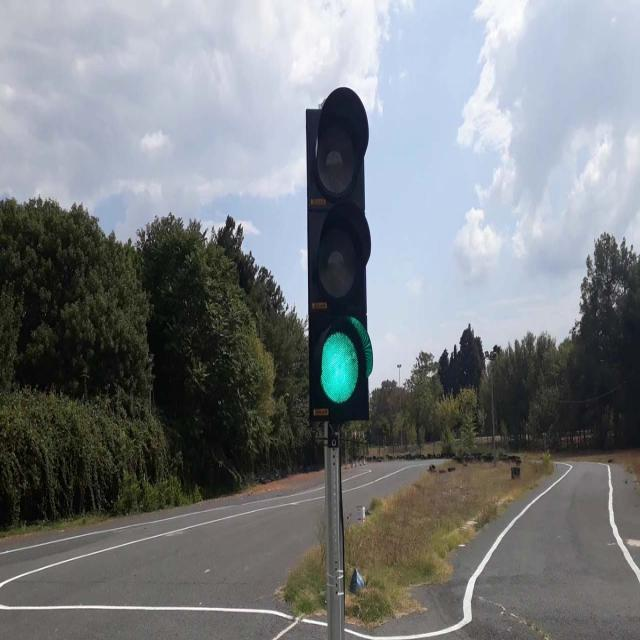yesil: (306, 89, 372, 419)
